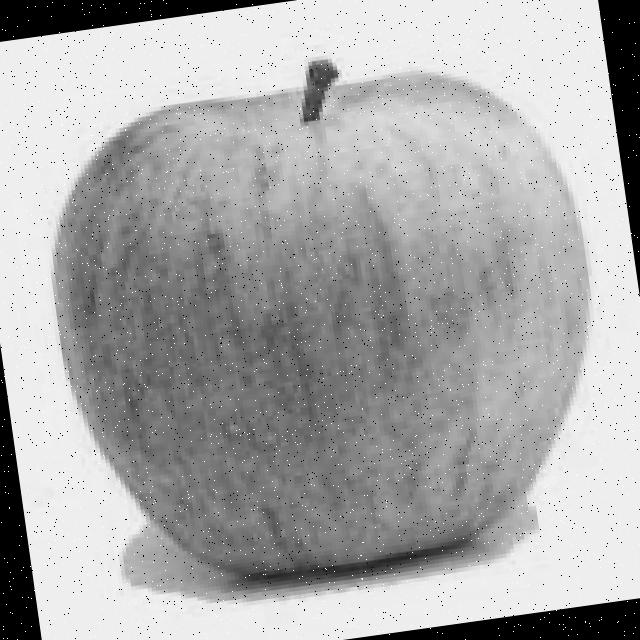apple: (23, 19, 626, 606)
